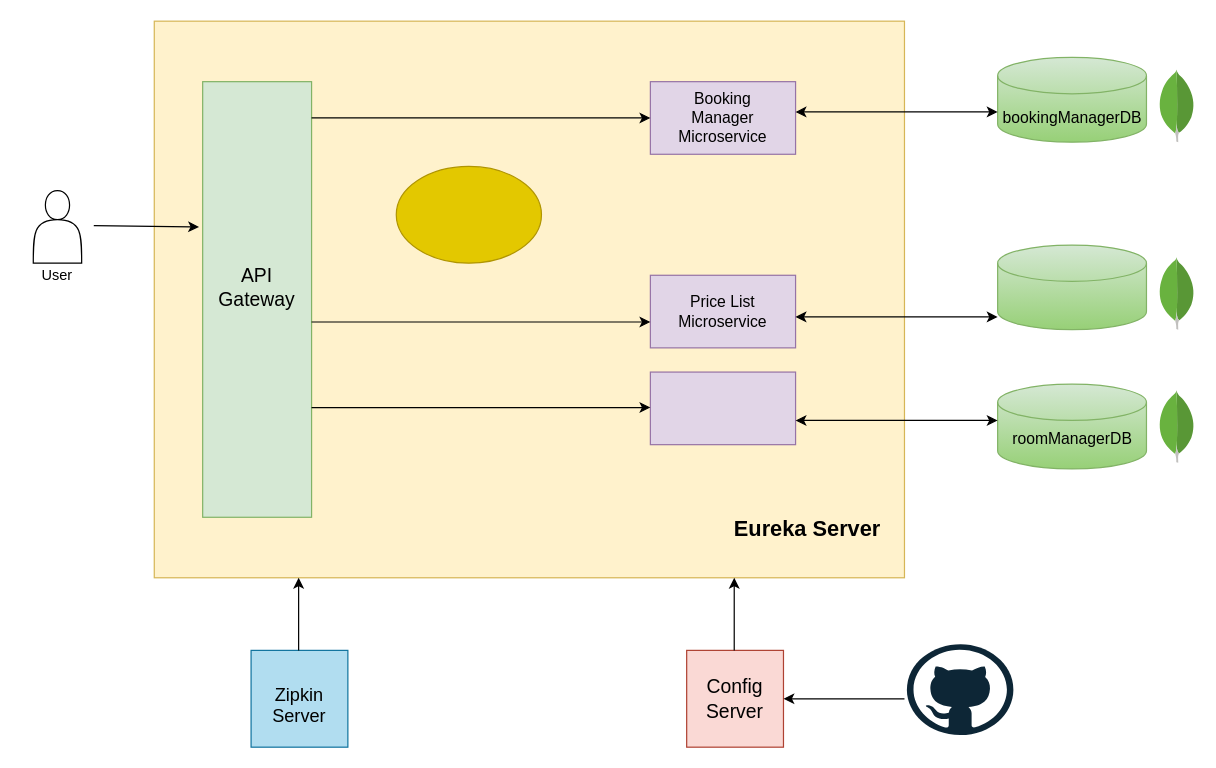
This 1216x768 diagram has some shape labels left out. Each missing label, with the centre of its shape:
Hystrix Dashboard: point (468, 214)
priceListDB: point (1071, 287)
Room Manager Microservice: point (722, 408)
